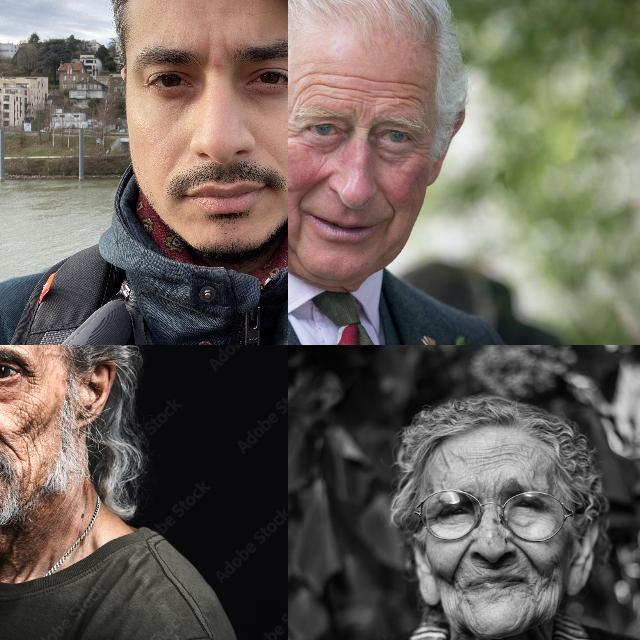chin: (288, 234, 304, 268)
crows_feet: (26, 368, 42, 392), (414, 140, 428, 158), (288, 121, 299, 143)
forehead: (296, 68, 358, 102), (372, 78, 426, 114), (472, 443, 512, 467)
frown_line: (220, 34, 236, 62), (201, 38, 215, 68), (352, 121, 370, 139)
gummy_smile: (512, 536, 544, 570), (452, 538, 474, 584), (300, 168, 326, 205), (380, 184, 400, 224), (264, 146, 282, 166), (0, 417, 7, 442)
masseter: (536, 582, 560, 612), (451, 597, 474, 627), (24, 417, 42, 443), (23, 445, 37, 475)
